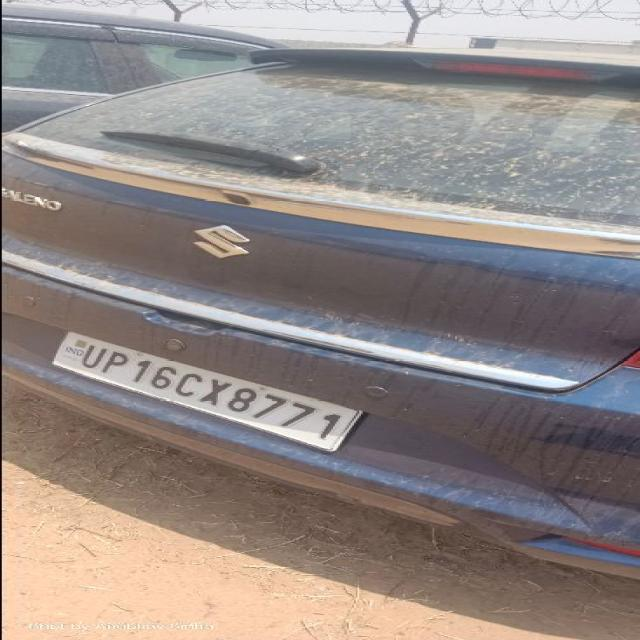license_plate: (49, 330, 364, 453)
